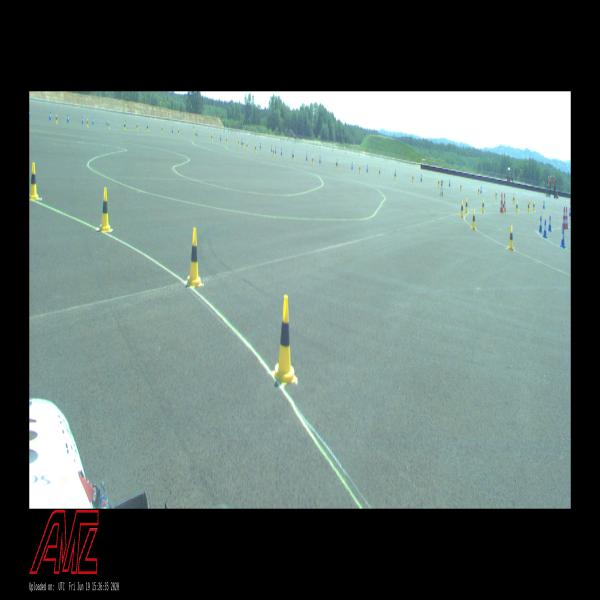blue_cone: (560, 228, 566, 248), (543, 220, 547, 238), (548, 216, 552, 231), (539, 216, 542, 233), (351, 161, 353, 170), (67, 114, 69, 122), (542, 201, 544, 209), (568, 208, 570, 216), (319, 156, 321, 164), (480, 186, 482, 194), (92, 117, 94, 124), (196, 130, 198, 137), (271, 145, 273, 152), (420, 174, 422, 181), (82, 115, 83, 124), (281, 147, 282, 156), (50, 112, 51, 120), (275, 146, 276, 154), (292, 150, 293, 158), (306, 153, 307, 161), (367, 164, 368, 172), (107, 118, 108, 125), (125, 120, 126, 127), (241, 138, 242, 145), (260, 142, 261, 149), (337, 159, 338, 166), (395, 169, 396, 176), (449, 179, 450, 186), (147, 123, 148, 129), (172, 127, 173, 133), (220, 135, 221, 141), (30, 109, 30, 118)
large_orange_cone: (562, 207, 566, 229), (500, 193, 503, 212), (566, 207, 568, 229), (504, 193, 506, 213)
yellow_cone: (272, 295, 297, 385), (186, 228, 203, 287), (99, 187, 112, 232), (29, 163, 40, 200), (508, 226, 514, 251), (471, 209, 476, 230), (460, 201, 463, 218), (465, 198, 468, 214), (481, 199, 484, 213), (335, 160, 338, 169), (503, 200, 505, 213), (516, 201, 518, 212), (393, 172, 396, 179), (359, 164, 361, 174), (495, 190, 497, 199), (512, 195, 514, 204), (378, 168, 380, 177), (438, 178, 440, 187), (533, 202, 535, 210), (292, 152, 294, 160), (460, 183, 462, 191), (312, 157, 314, 164), (161, 126, 163, 133), (195, 131, 197, 138), (211, 134, 213, 141), (226, 138, 228, 144), (242, 142, 244, 148), (246, 143, 248, 149), (528, 202, 529, 212), (56, 114, 57, 123), (412, 174, 413, 182), (87, 119, 88, 127), (109, 121, 110, 129), (478, 187, 479, 195), (124, 123, 125, 130), (178, 128, 179, 135), (255, 145, 256, 152), (273, 150, 274, 157), (137, 124, 138, 130), (238, 140, 239, 146), (148, 125, 148, 131)
